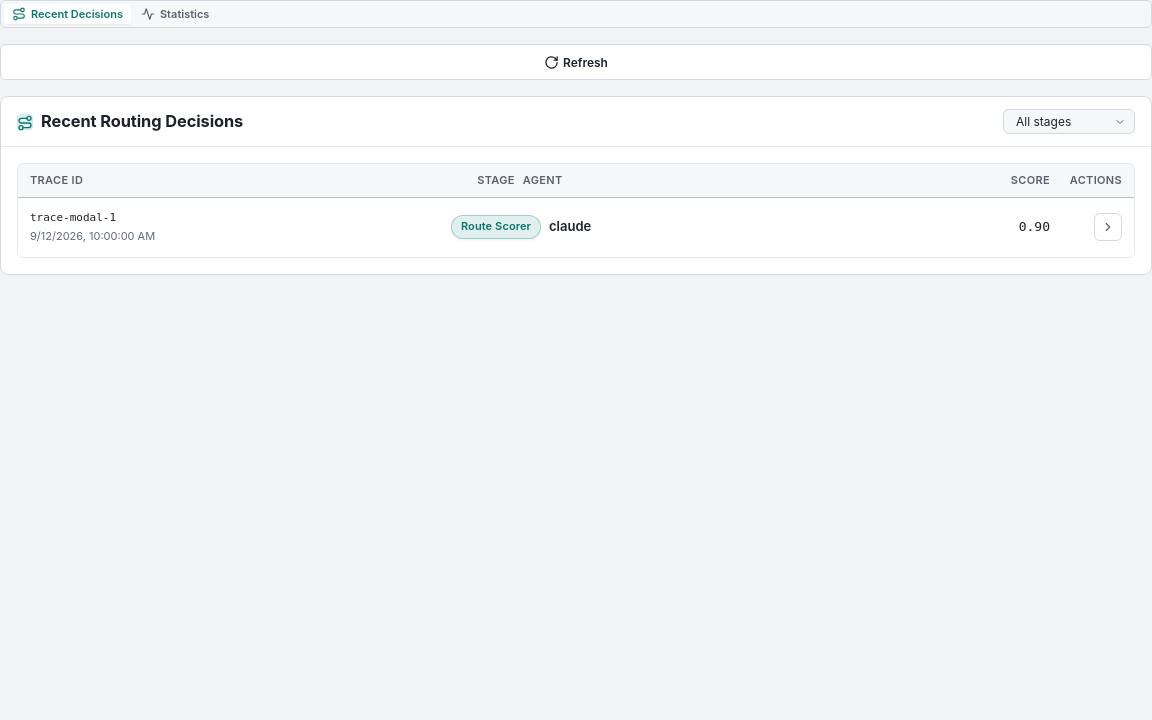
it: RoutingRules.vue › opens trace detail modal when view-trace button clicked
Click the button with class "icon-btn": x=1108, y=227 [1094,213,1122,241]
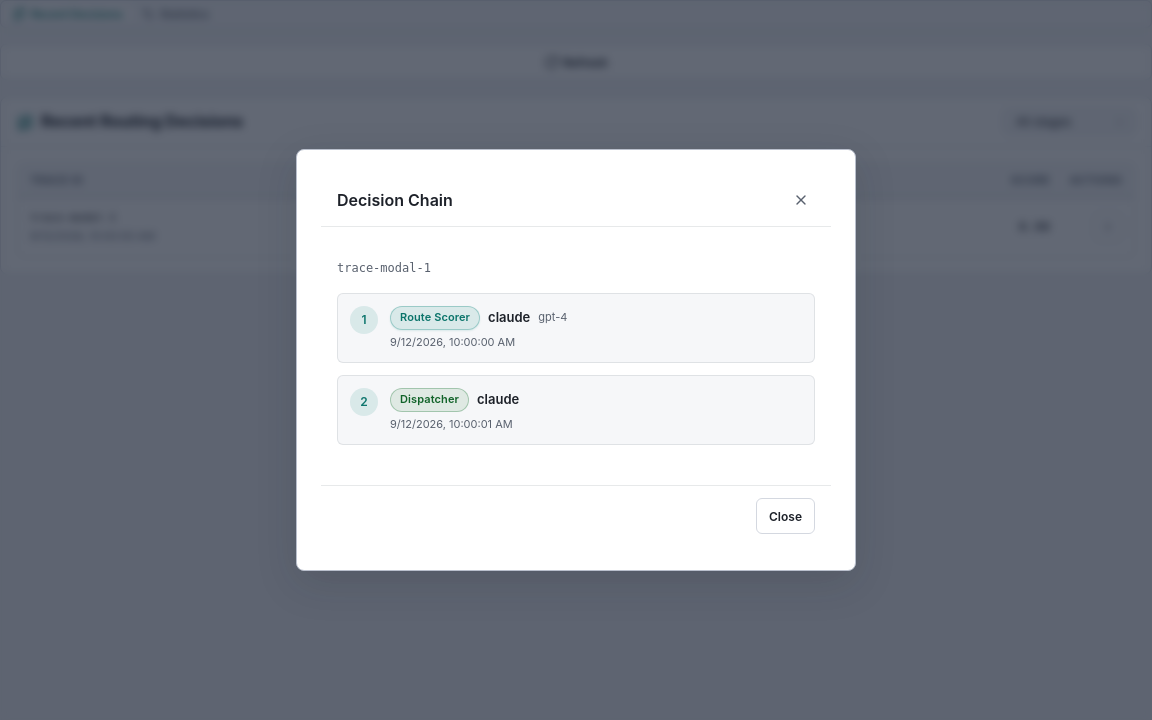
Check: the dialog with class "modal-overlay" is shown
Check: the number of elements with class "trace-step" is 2, box [337,293,815,363]; [337,375,815,445]
